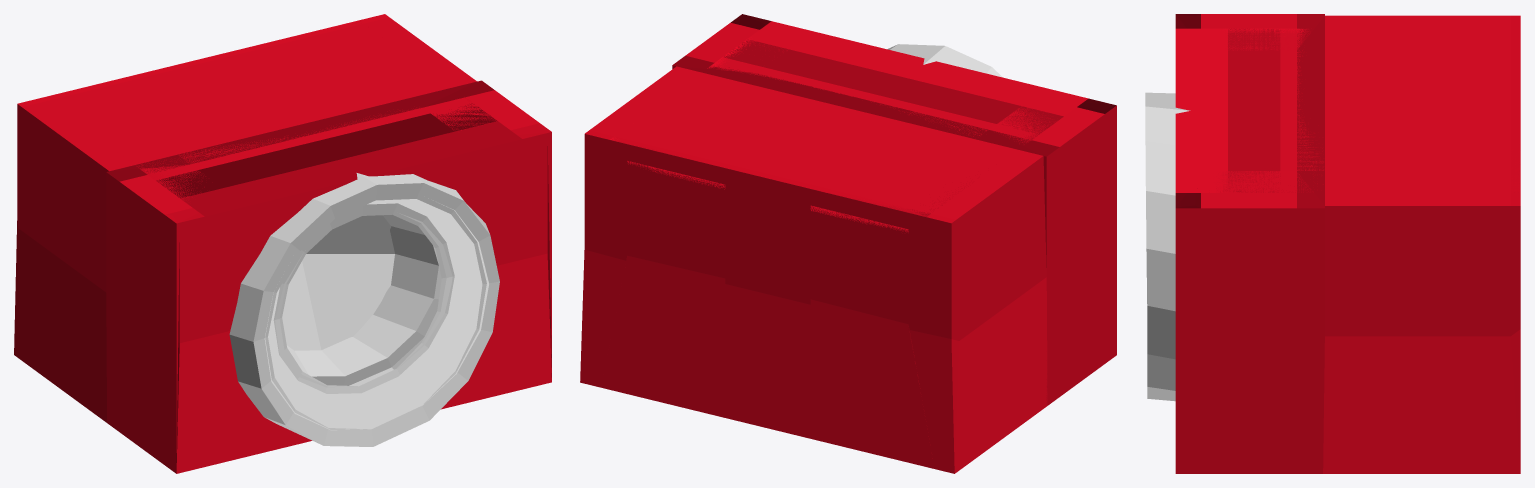
The model's file is MysteryArisesAgain.fbx.
3 renders of one model, left to right at view 1: azimuth 30°, elevation 25°; view 2: azimuth 150°, elevation 25°; view 3: azimuth 270°, elevation 25°, orthographic. The views are drawn at different scales.
Parts seen in each view (by area): view 1: robo copy.002; view 2: robo copy.002; view 3: robo copy.002.
Part boxes in pixels (bbox=[...]): robo copy.002: bbox=[14, 14, 551, 473]; robo copy.002: bbox=[580, 14, 1116, 473]; robo copy.002: bbox=[1145, 14, 1520, 473].
Bounding box in the file's own units: 35.8 × 23.89 × 29.22.
